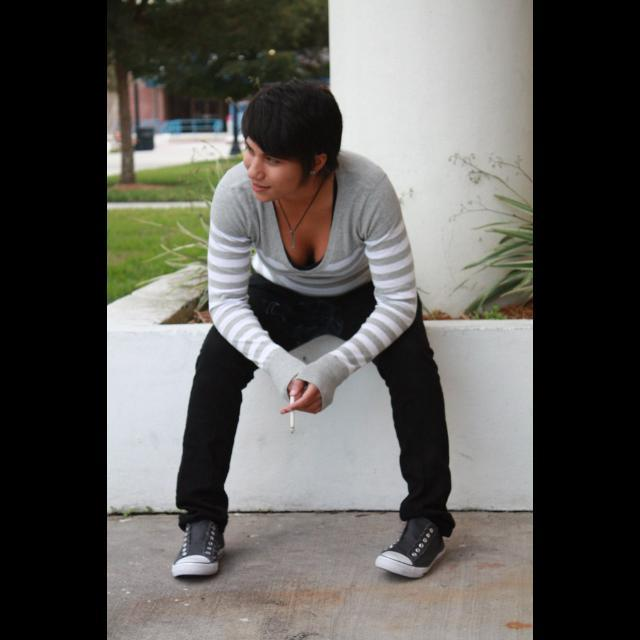rokok: (288, 392, 300, 431)
